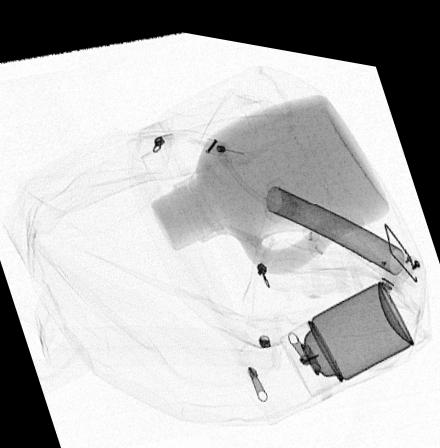Sprayer: (279, 265, 415, 387)
